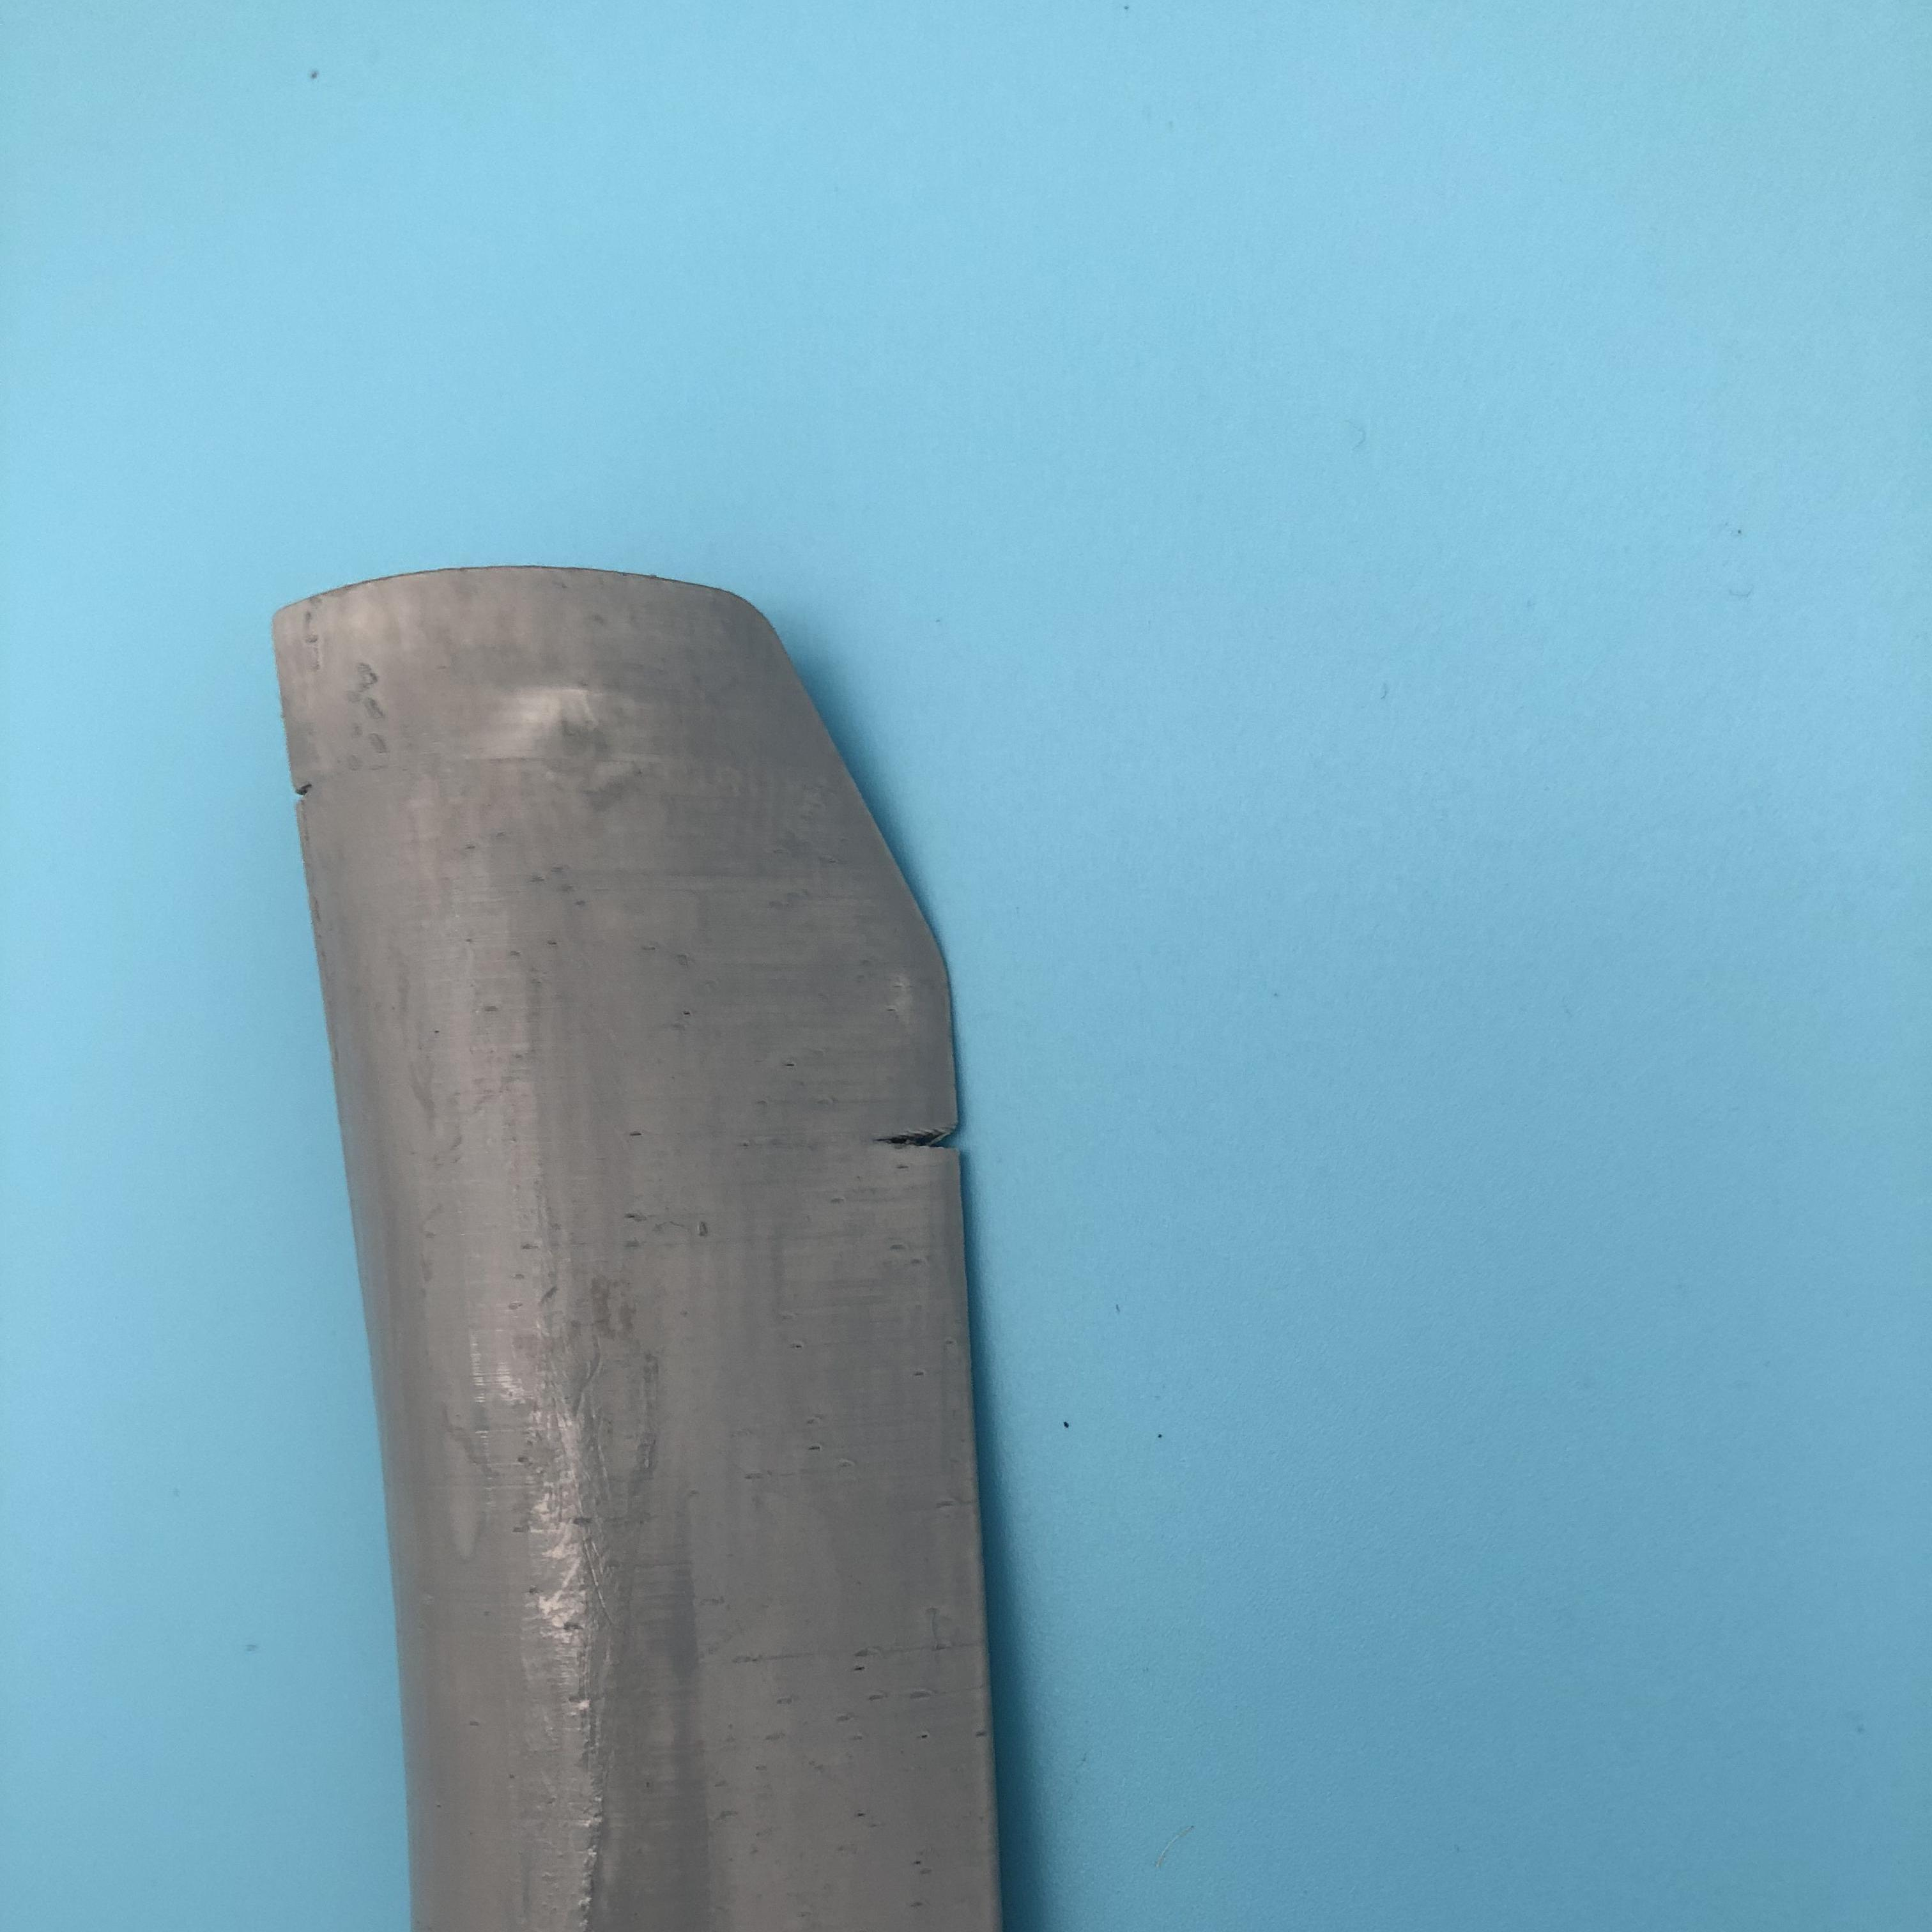groove: (870, 1111, 966, 1159), (287, 770, 331, 805)
